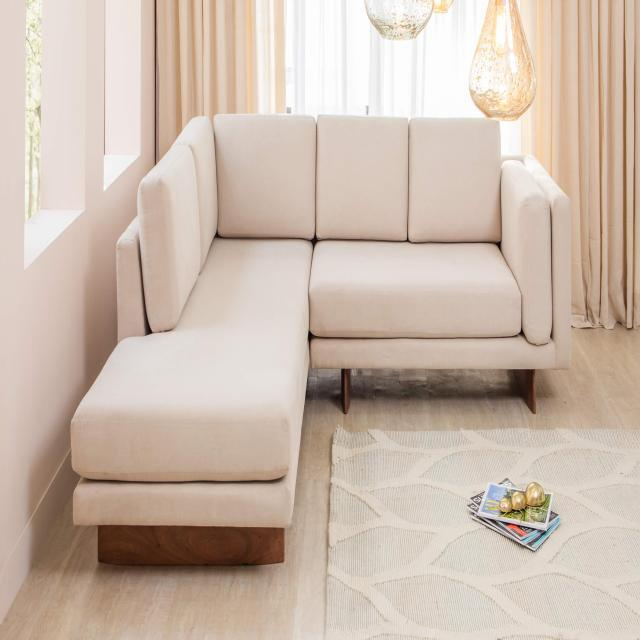sofa: (70, 110, 572, 566)
